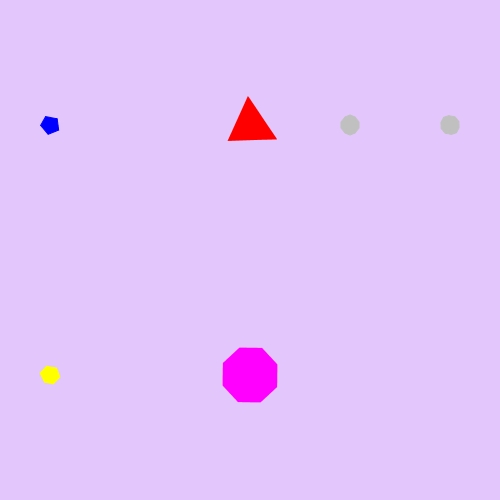decagon: (335, 111, 365, 139), (435, 111, 465, 139)
hexagon: (35, 362, 65, 388)
octagon: (217, 342, 283, 408)
pentagon: (36, 111, 64, 139)
triangle: (225, 98, 276, 152)
